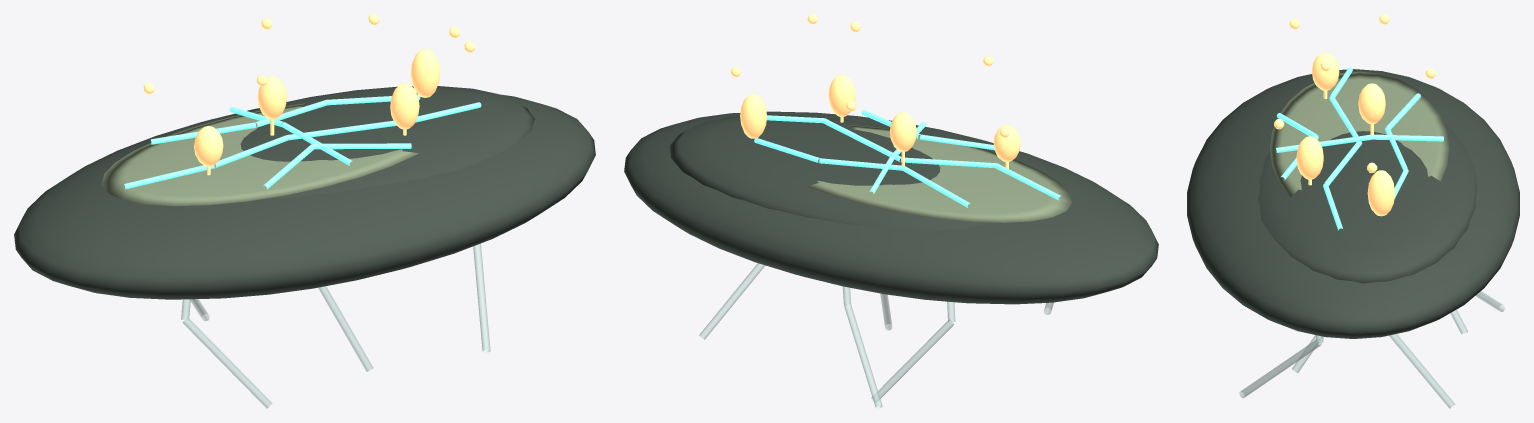
The model's file is evidence-garden-blockout.glb.
3 views of the same model, side by side, from view 1: azimuth 30°, elevation 25°; view 2: azimuth 150°, elevation 25°; view 3: azimuth 270°, elevation 25° (orthographic). The views are drawn at different scales.
Visible parts, largest first — view 1: evidence_garden_mineral_island, evidence_garden_moss_specimen_surface, evidence_garden_luminous_route_veins, evidence_garden_warm_data_blossoms, evidence_garden_translucent_roots, evidence_garden_archive_seed_particles; view 2: evidence_garden_mineral_island, evidence_garden_moss_specimen_surface, evidence_garden_luminous_route_veins, evidence_garden_warm_data_blossoms, evidence_garden_translucent_roots, evidence_garden_archive_seed_particles; view 3: evidence_garden_mineral_island, evidence_garden_moss_specimen_surface, evidence_garden_warm_data_blossoms, evidence_garden_luminous_route_veins, evidence_garden_translucent_roots, evidence_garden_archive_seed_particles.
Part boxes in pixels (x1=…): evidence_garden_mineral_island: x1=14, y1=86, x2=595, y2=299; evidence_garden_moss_specimen_surface: x1=101, y1=103, x2=418, y2=206; evidence_garden_luminous_route_veins: x1=124, y1=94, x2=481, y2=189; evidence_garden_warm_data_blossoms: x1=194, y1=49, x2=439, y2=175; evidence_garden_translucent_roots: x1=181, y1=243, x2=490, y2=408; evidence_garden_archive_seed_particles: x1=143, y1=14, x2=474, y2=94; evidence_garden_mineral_island: x1=624, y1=111, x2=1158, y2=304; evidence_garden_moss_specimen_surface: x1=807, y1=125, x2=1072, y2=222; evidence_garden_luminous_route_veins: x1=754, y1=110, x2=1060, y2=207; evidence_garden_warm_data_blossoms: x1=740, y1=74, x2=1020, y2=168; evidence_garden_translucent_roots: x1=699, y1=263, x2=1053, y2=408; evidence_garden_archive_seed_particles: x1=731, y1=14, x2=1009, y2=137; evidence_garden_mineral_island: x1=1187, y1=69, x2=1519, y2=338; evidence_garden_moss_specimen_surface: x1=1270, y1=71, x2=1449, y2=197; evidence_garden_warm_data_blossoms: x1=1296, y1=52, x2=1394, y2=216; evidence_garden_luminous_route_veins: x1=1276, y1=67, x2=1443, y2=230; evidence_garden_translucent_roots: x1=1239, y1=291, x2=1504, y2=408; evidence_garden_archive_seed_particles: x1=1274, y1=14, x2=1435, y2=172.
Size of the model in its own units: 3.9 by 2.29 by 2.15.
